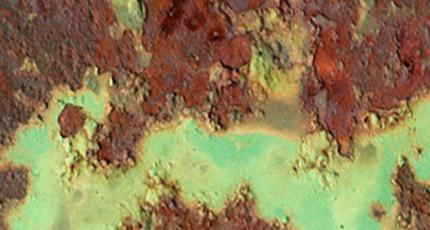rust: (89, 1, 419, 168), (1, 6, 83, 198)
